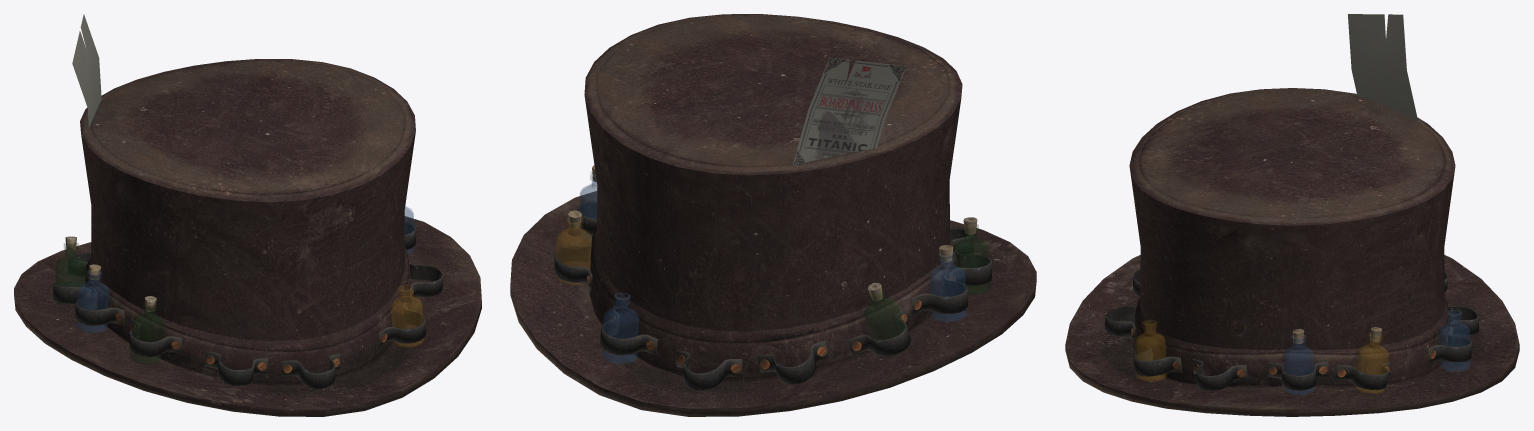
File: deadManHat.gltf
The picture shows the model from 3 angles, left to right: view 1: azimuth 30°, elevation 25°; view 2: azimuth 150°, elevation 25°; view 3: azimuth 270°, elevation 25°; orthographic projection. The views are drawn at different scales.
Parts seen in each view (by area): view 1: deadManHat; view 2: deadManHat; view 3: deadManHat.
Part boxes in pixels (bbox=[...]): deadManHat: bbox=[14, 14, 481, 416]; deadManHat: bbox=[510, 14, 1036, 416]; deadManHat: bbox=[1065, 14, 1519, 416].
Size of the model in its own units: 1.61 by 1.12 by 1.61.
Materials: 3 (3 with a texture image).
